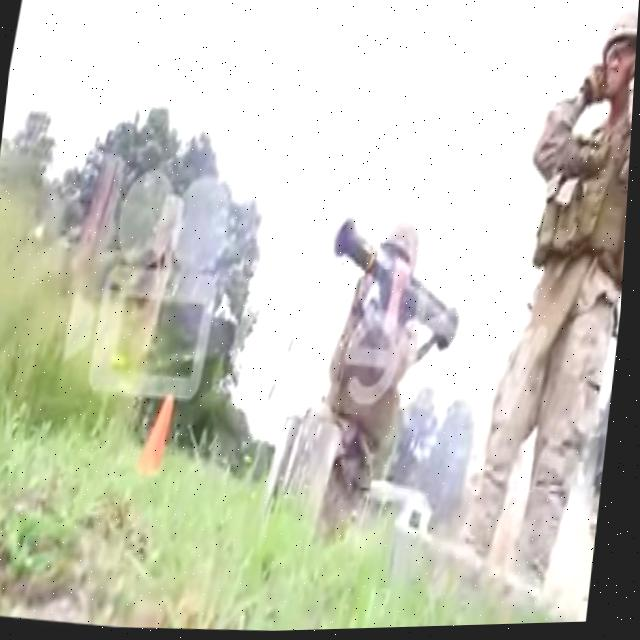rocket: (324, 216, 479, 362)
